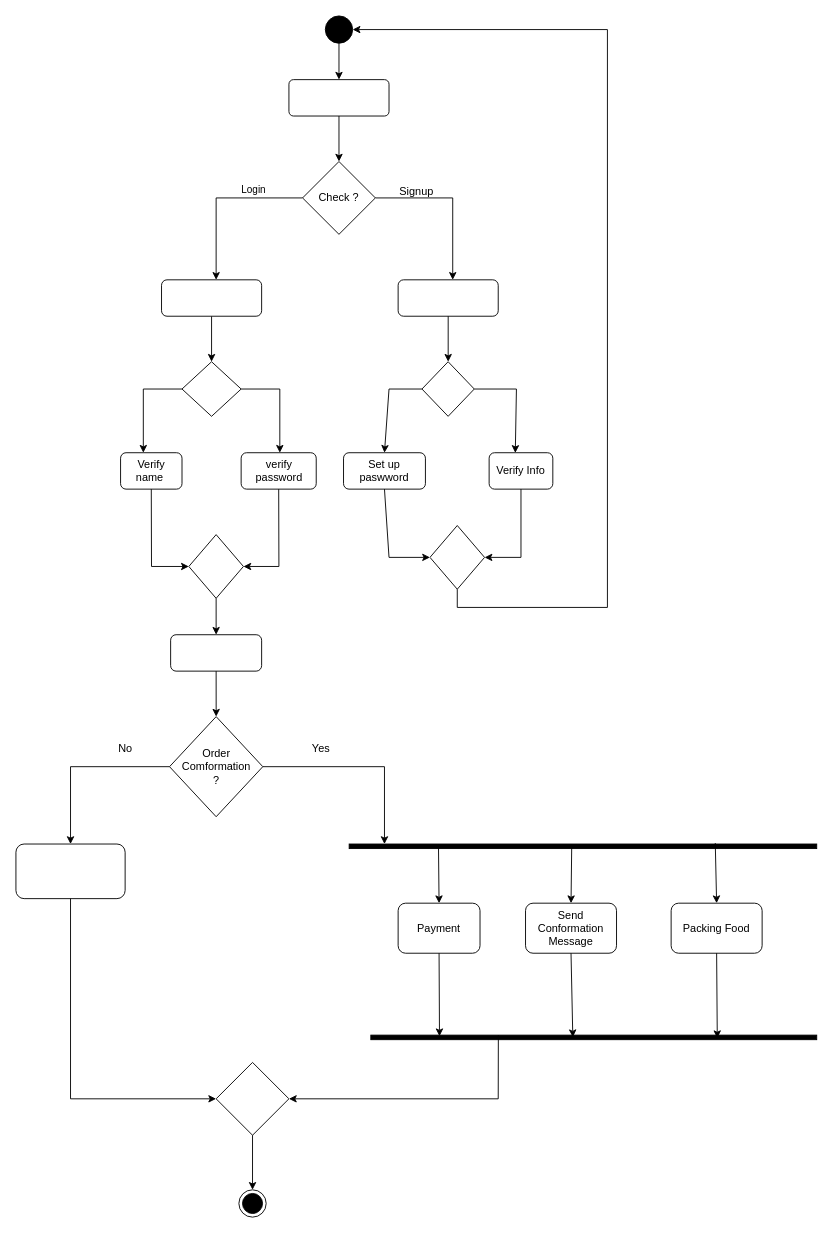
Some shapes in this 833 by 1233 pixel diagram are drawn without their labels. The shapes that lost their labels are listed below. From the top down, each one's centre as x and y in pixels, then its label:
At (338,97): "Ask for Login OR Signup".
At (211,297): "Enter Username and Password".
At (447,297): "Enter Info".
At (216,652): "Order food".
At (70,871): "Cancle".
